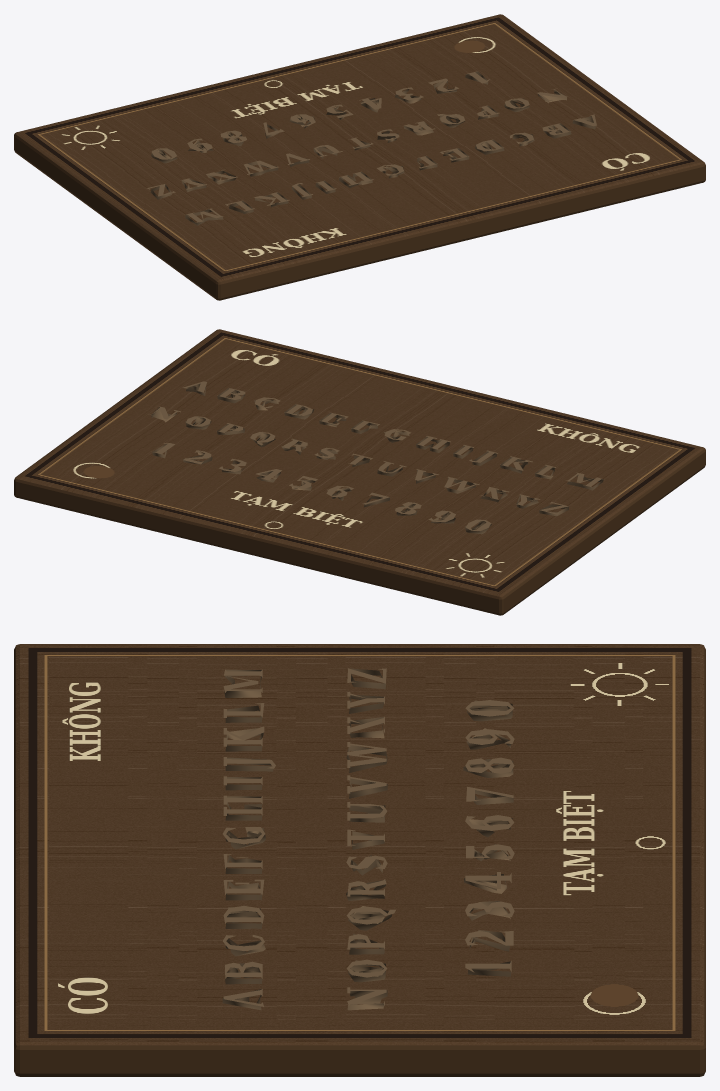
The model's file is ban-co.glb.
3 views of the same model, one above another, from view 1: azimuth 30°, elevation 25°; view 2: azimuth 150°, elevation 25°; view 3: azimuth 270°, elevation 25° (orthographic). The views are drawn at different scales.
Visible parts, largest first — view 1: mat-ban; view 2: mat-ban; view 3: mat-ban.
Boxes of the visible parts, <box> form: mat-ban: <box>14,14,705,300</box>; mat-ban: <box>14,329,705,615</box>; mat-ban: <box>14,644,705,1076</box>.
Bounding box in the file's own units: 0.62 × 0.045 × 0.45.
Materials: 3 (2 with a texture image).
